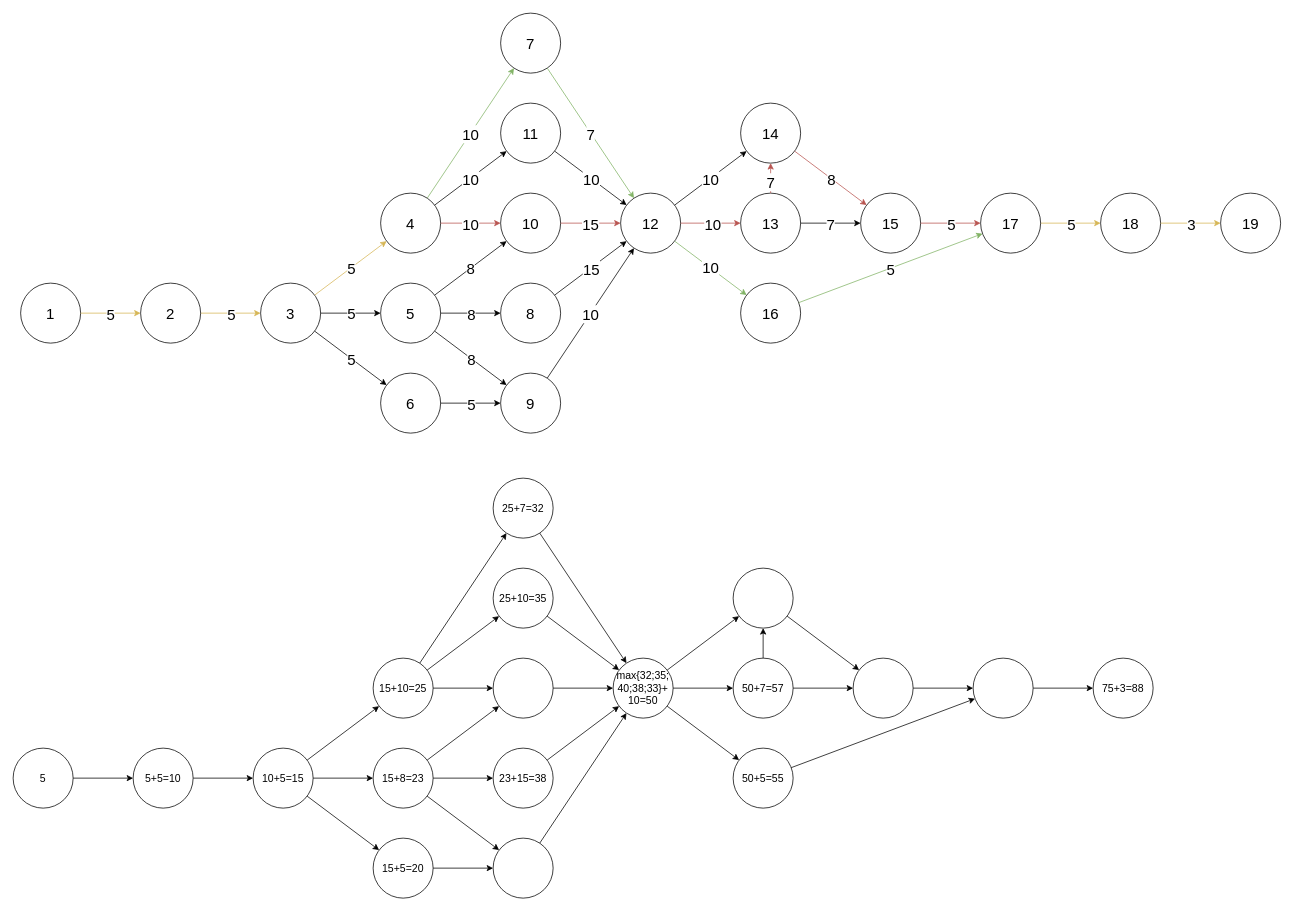
Image size: 1294x911. Some labels were removed from this diagram. Each missing label, with the box of its shape:
max{23;20} +10=33: (492, 837, 553, 898)
max{25;23} +15=40: (492, 657, 553, 718)
max{50;57} +8=65: (732, 567, 793, 628)
max{57;65} +5=70: (852, 657, 913, 718)
max{70;55} +5=75: (972, 657, 1033, 718)
